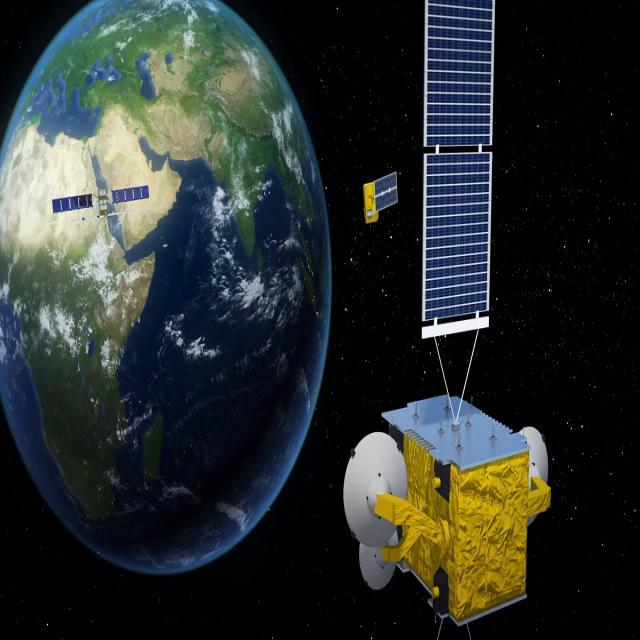sat: (52, 147, 157, 225), (357, 152, 404, 232)
